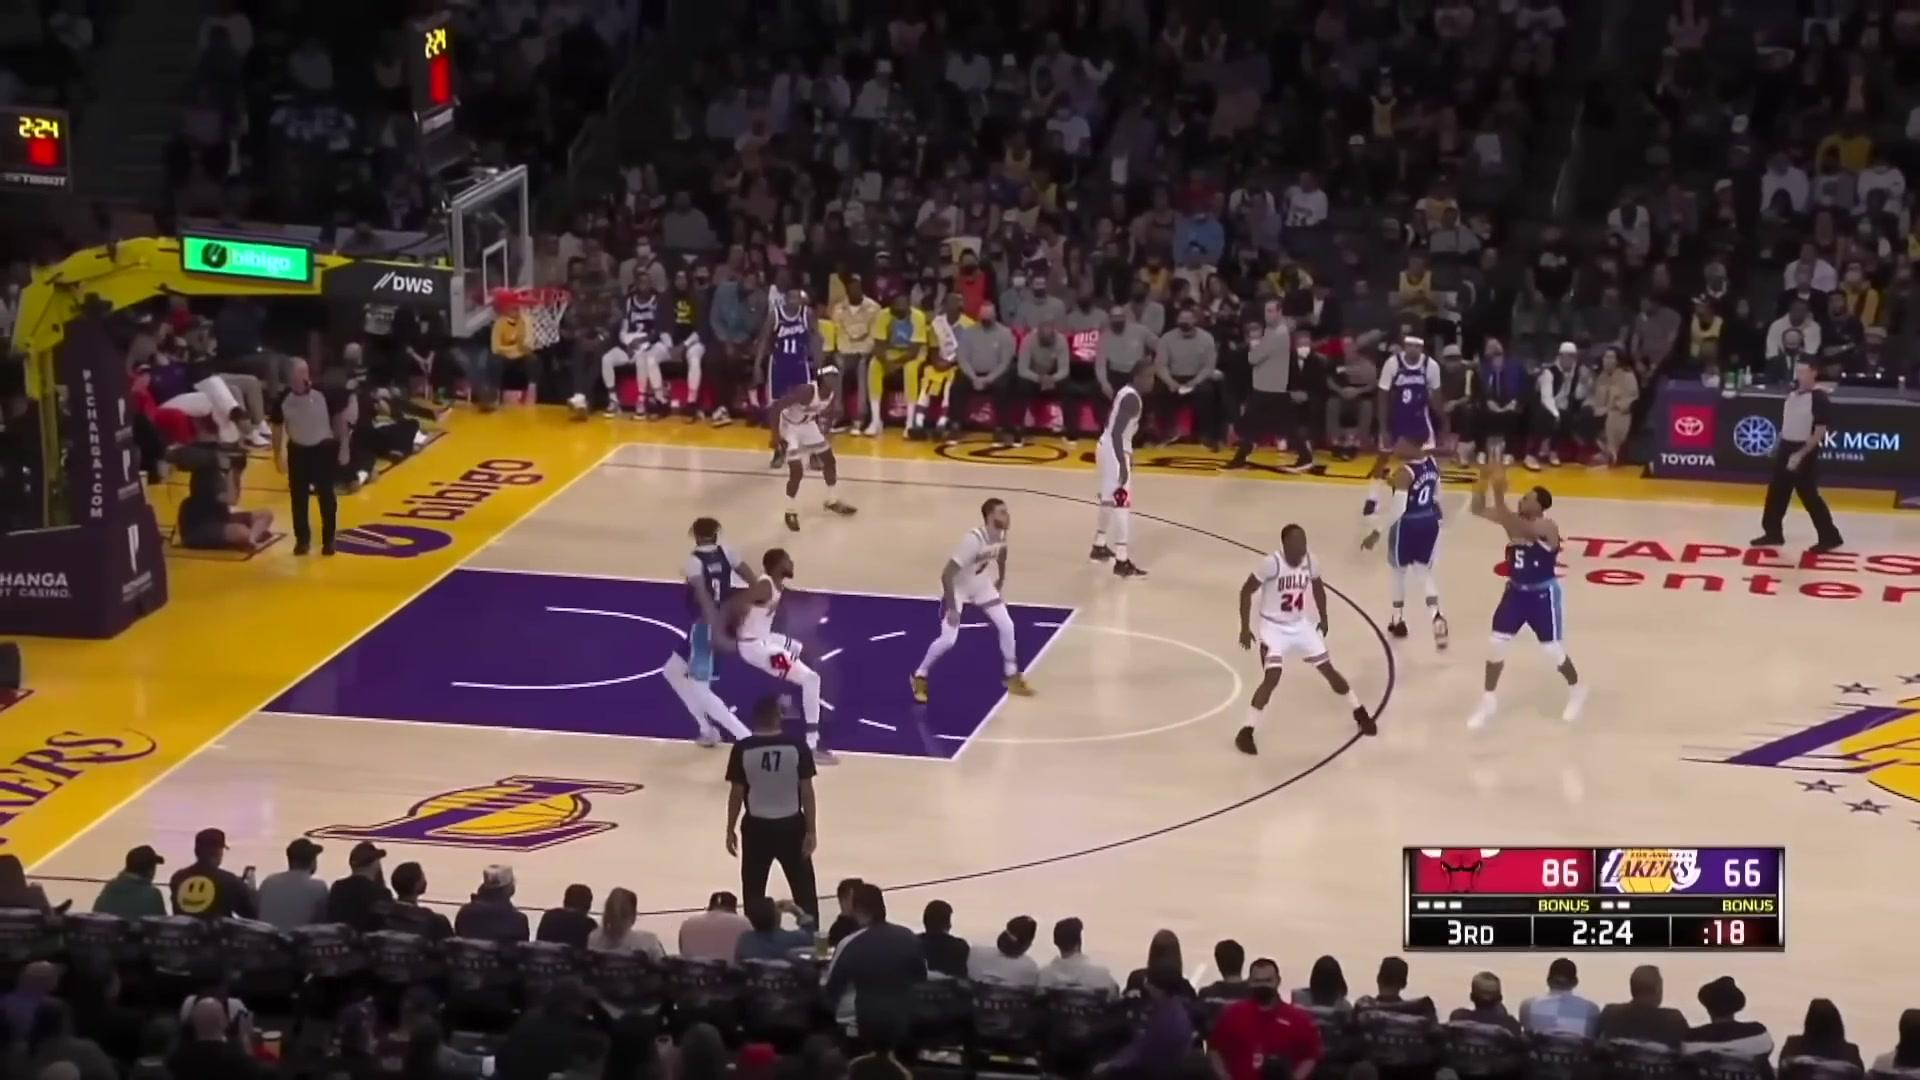foul: (641, 506, 852, 758)
